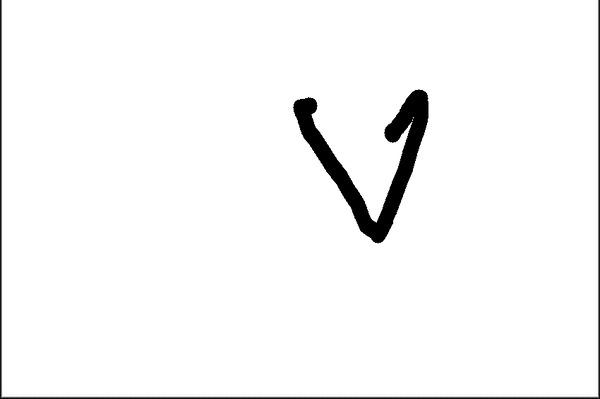V: (297, 86, 435, 252)
